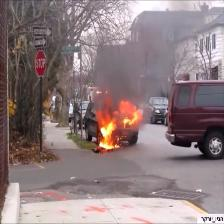fire: (85, 99, 149, 156)
smoke: (65, 0, 212, 98)
